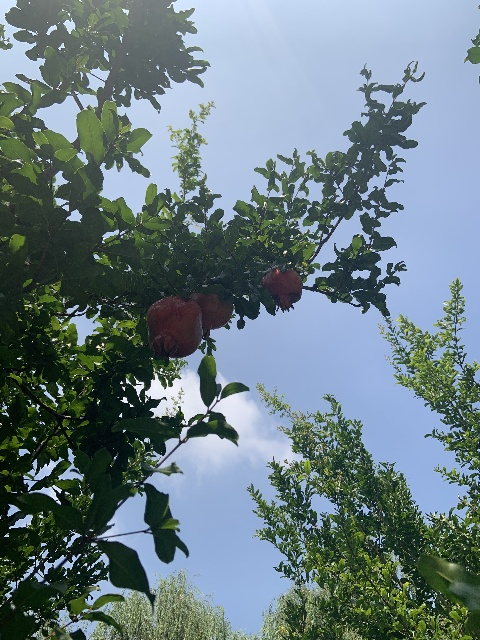ripe: (146, 295, 202, 358), (189, 284, 233, 339), (261, 266, 302, 312)
